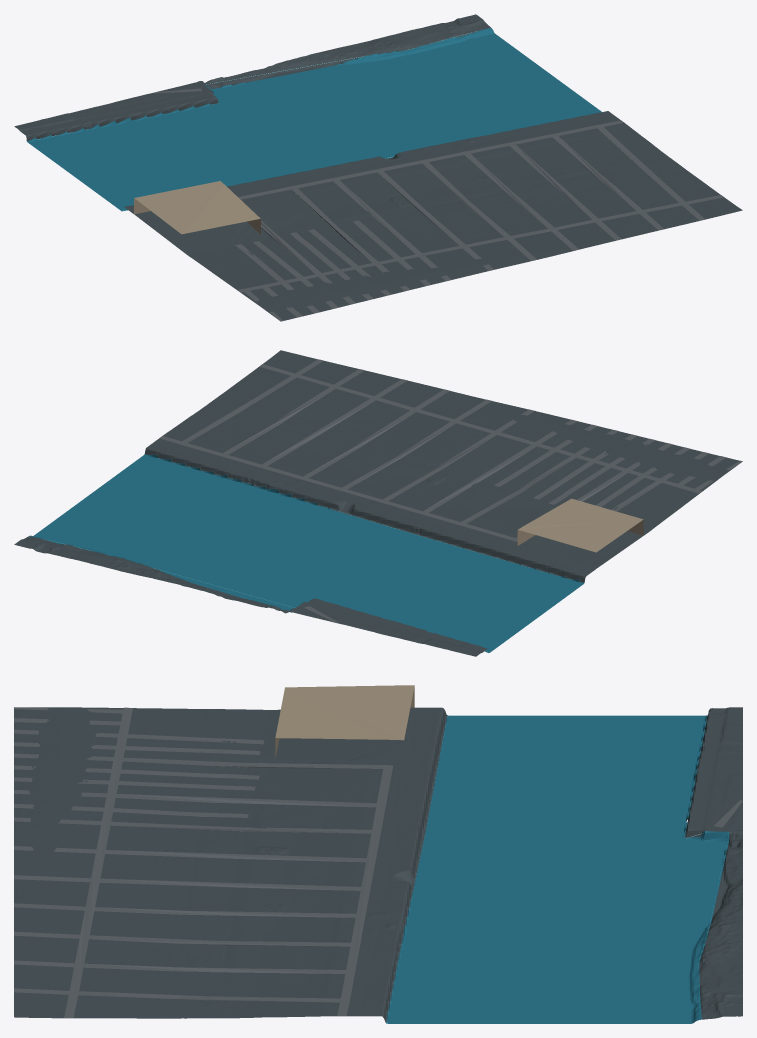
The model's file is epsg26910-1444-10880.lod0.glb.
3 renders of one model, top to bottom at view 1: azimuth 30°, elevation 25°; view 2: azimuth 150°, elevation 25°; view 3: azimuth 270°, elevation 25°, orthographic. The views are drawn at different scales.
Parts seen in each view (by area): view 1: epsg26910-1444-10880-lod0; view 2: epsg26910-1444-10880-lod0; view 3: epsg26910-1444-10880-lod0.
Boxes of the visible parts, bbox=[...] form: epsg26910-1444-10880-lod0: bbox=[14, 14, 742, 321]; epsg26910-1444-10880-lod0: bbox=[14, 350, 742, 656]; epsg26910-1444-10880-lod0: bbox=[14, 685, 742, 1023].
Size of the model in its own units: 384 by 17.84 by 384.
